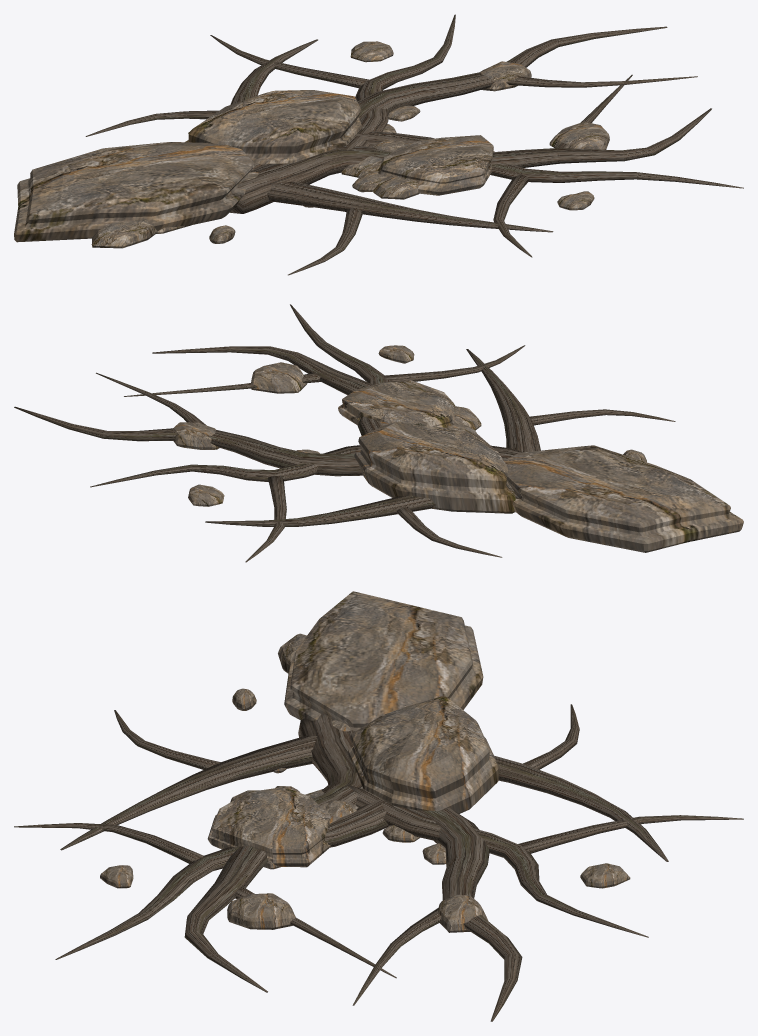
The model's file is ground-kit-standard-r15.glb.
The picture shows the model from 3 angles, top to bottom: view 1: azimuth 30°, elevation 25°; view 2: azimuth 150°, elevation 25°; view 3: azimuth 270°, elevation 25°; orthographic projection. The views are drawn at different scales.
Parts seen in each view (by area): view 1: weatheredShoulderSlabs_mesh, rootShoulderB_mesh, rootShoulderA_mesh, trailDetailA_mesh, trailDetailB_mesh, trailDetailC_mesh; view 2: weatheredShoulderSlabs_mesh, rootShoulderA_mesh, rootShoulderB_mesh; view 3: weatheredShoulderSlabs_mesh, rootShoulderB_mesh, rootShoulderA_mesh, trailDetailA_mesh.
Part boxes in pixels (<box>): weatheredShoulderSlabs_mesh: <box>14,90,494,242</box>; rootShoulderB_mesh: <box>210,14,711,275</box>; rootShoulderA_mesh: <box>85,26,743,257</box>; trailDetailA_mesh: <box>91,105,420,248</box>; trailDetailB_mesh: <box>156,124,419,233</box>; trailDetailC_mesh: <box>303,142,408,207</box>; weatheredShoulderSlabs_mesh: <box>338,380,743,552</box>; rootShoulderA_mesh: <box>14,304,525,557</box>; rootShoulderB_mesh: <box>90,345,675,562</box>; weatheredShoulderSlabs_mesh: <box>207,591,499,867</box>; rootShoulderB_mesh: <box>60,710,743,992</box>; rootShoulderA_mesh: <box>14,704,668,1021</box>; trailDetailA_mesh: <box>232,633,445,864</box>.
Size of the model in its own units: 2.32 by 0.1748 by 1.74.
1 material, 1 textured.
